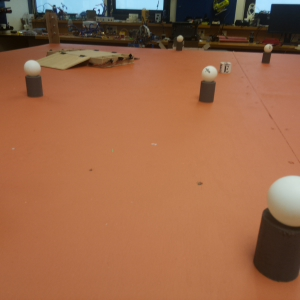blockE: (220, 62, 232, 78)
corner: (45, 12, 62, 44)
obstacle: (249, 173, 300, 279), (24, 59, 45, 100), (199, 66, 219, 105), (261, 44, 274, 65), (176, 36, 185, 53)
side: (92, 56, 137, 65)
slope: (37, 51, 90, 73), (134, 53, 142, 62)
